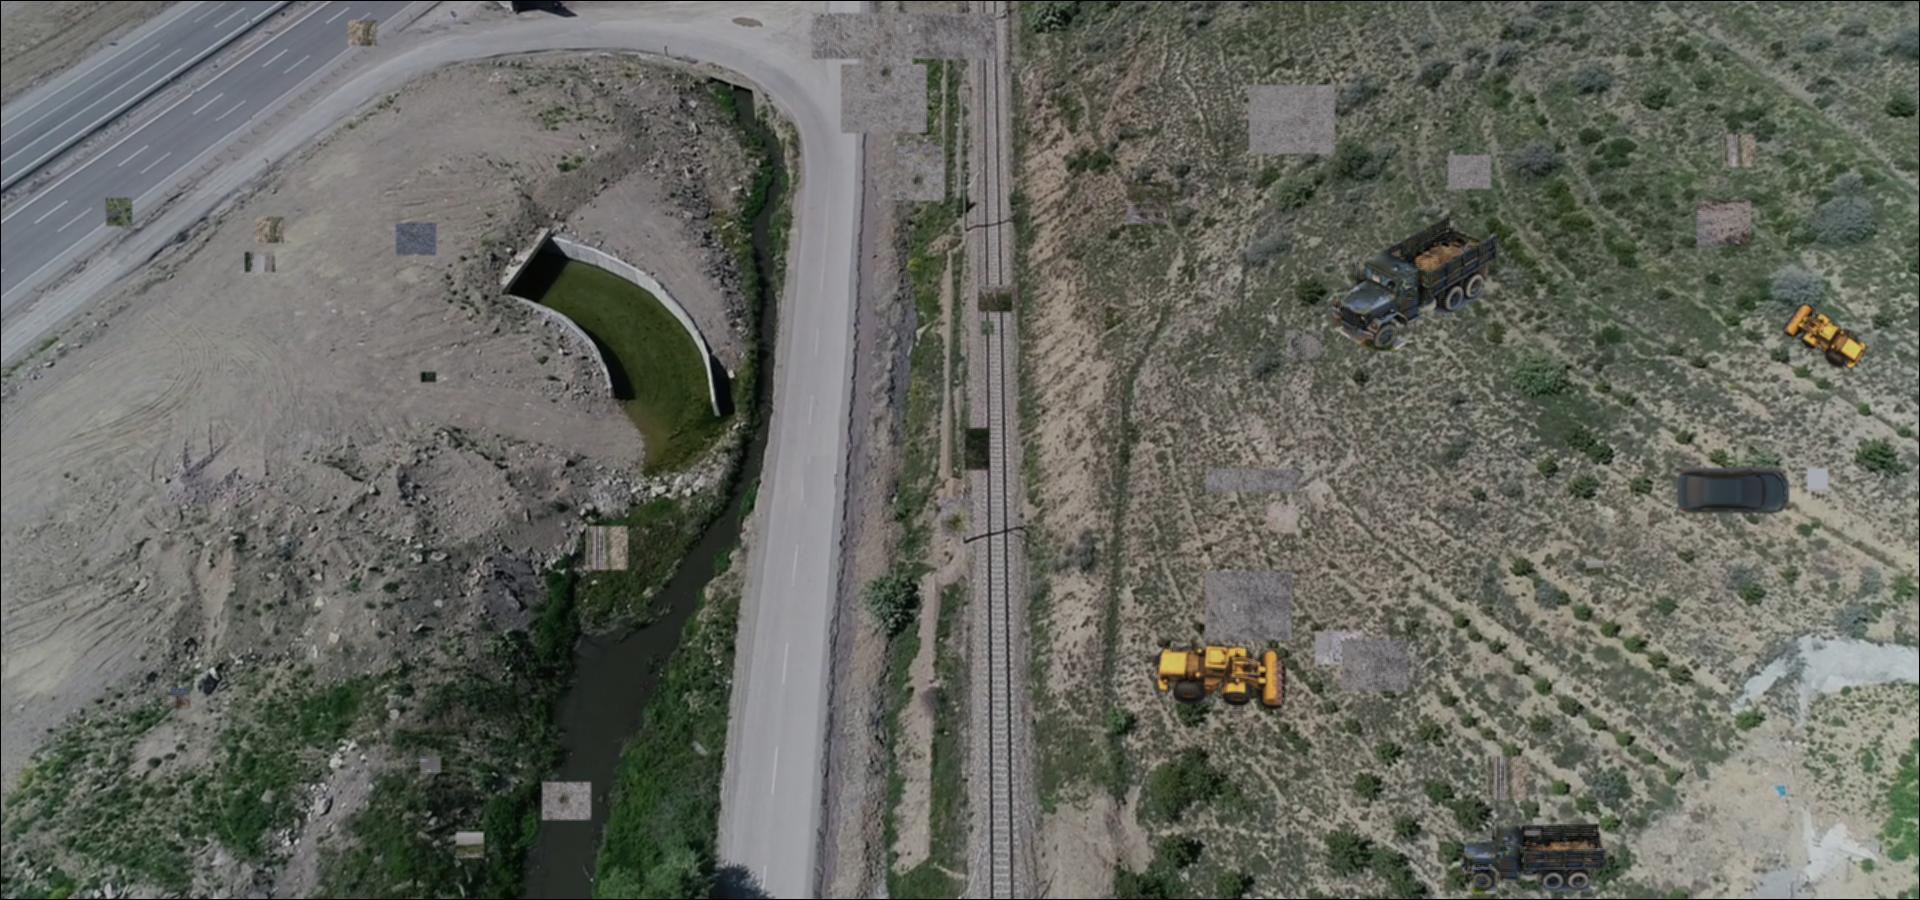arac: (1331, 213, 1498, 351), (1149, 624, 1296, 721), (1460, 818, 1609, 898), (1780, 302, 1872, 370), (1675, 465, 1789, 516)
